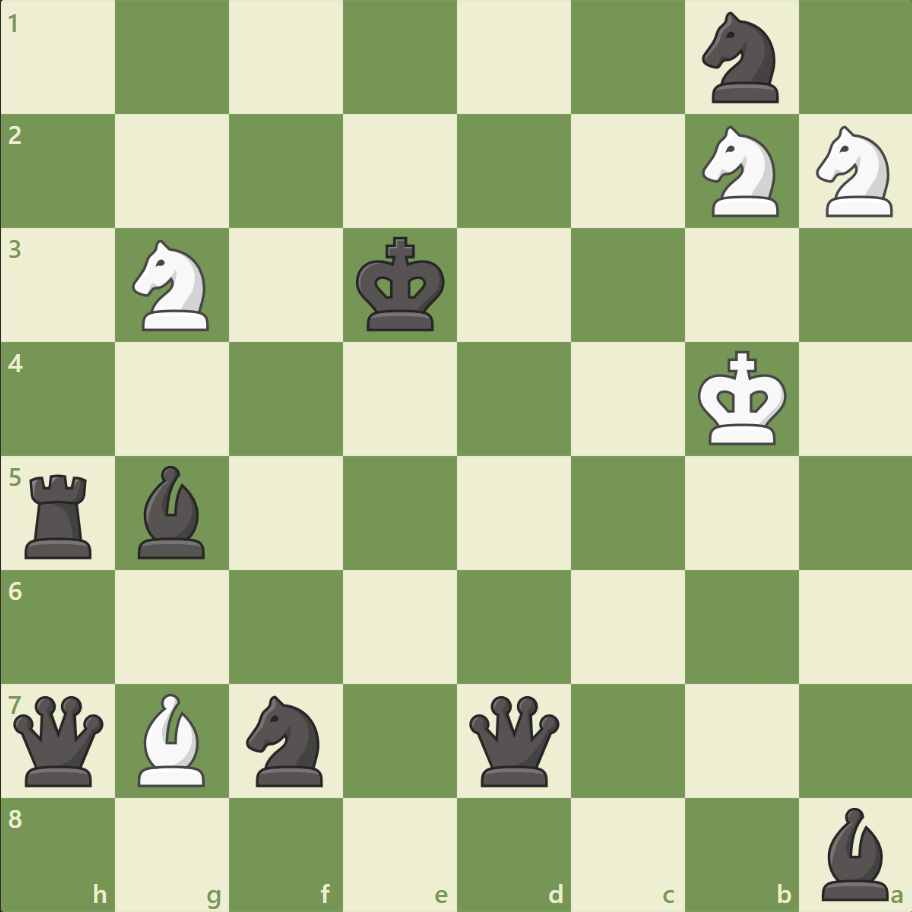B: (131, 687, 215, 790)
K: (692, 344, 792, 452)
N: (124, 234, 222, 337), (806, 121, 903, 223), (692, 121, 789, 223)
b: (812, 801, 896, 904), (131, 460, 215, 563)
k: (351, 231, 451, 339)
n: (238, 688, 335, 791), (692, 7, 789, 110)
q: (464, 690, 563, 789), (10, 690, 109, 789)
r: (19, 466, 102, 563)
